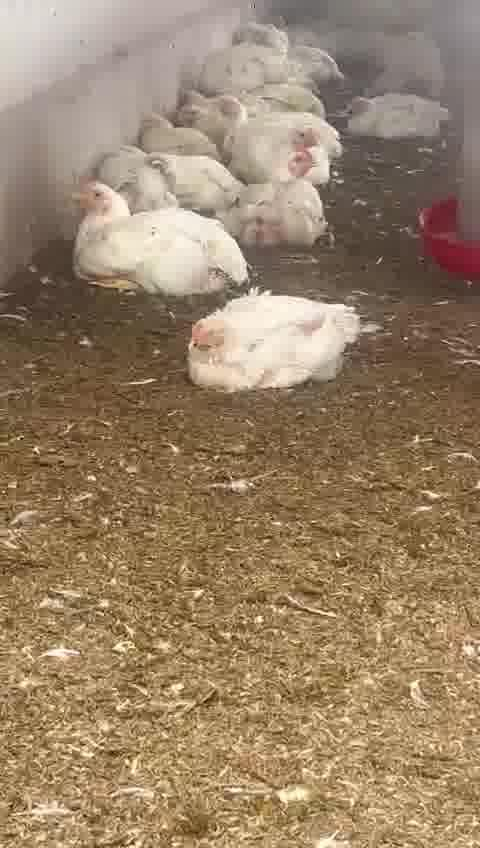AbNormal: (179, 296, 375, 398), (97, 139, 227, 207), (133, 110, 213, 160), (165, 86, 242, 134), (194, 53, 260, 102)
Normal: (68, 176, 244, 306), (219, 152, 328, 244), (233, 116, 345, 180), (339, 95, 460, 141), (247, 73, 338, 132)
